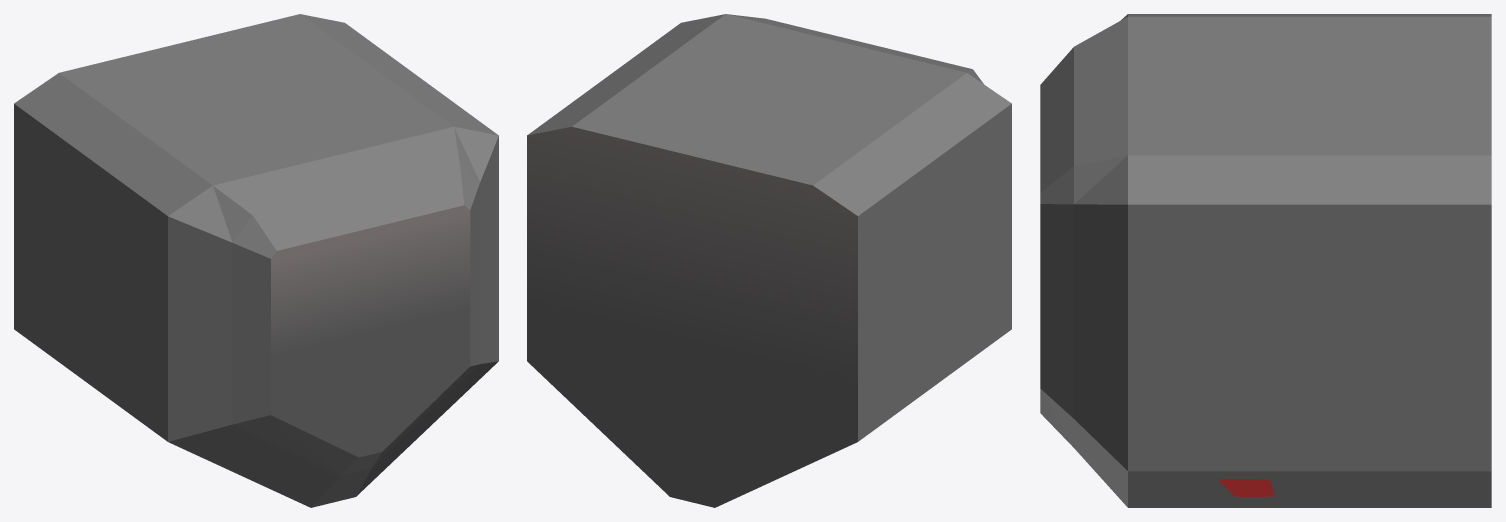
Rendered from player.obj.
3 renders of one model, left to right at view 1: azimuth 30°, elevation 25°; view 2: azimuth 150°, elevation 25°; view 3: azimuth 270°, elevation 25°, orthographic. The views are drawn at different scales.
Visible parts, largest first — view 1: player; view 2: player; view 3: player.
Part boxes in pixels (bbox=[...]): player: bbox=[14, 14, 498, 507]; player: bbox=[527, 14, 1011, 507]; player: bbox=[1040, 14, 1491, 507].
Bounding box in the file's own units: 1 × 1 × 1.
Materials: 1 (1 with a texture image).
